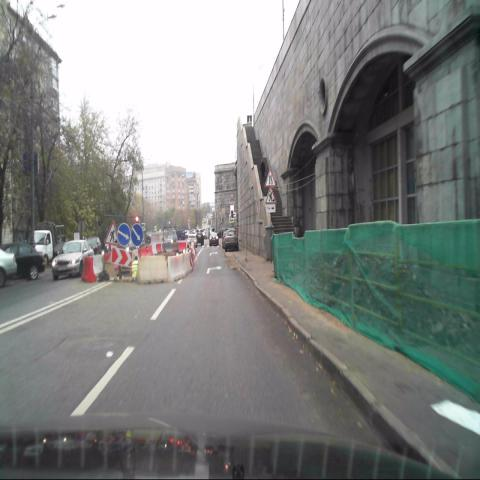1_20_2: (263, 168, 276, 187)
